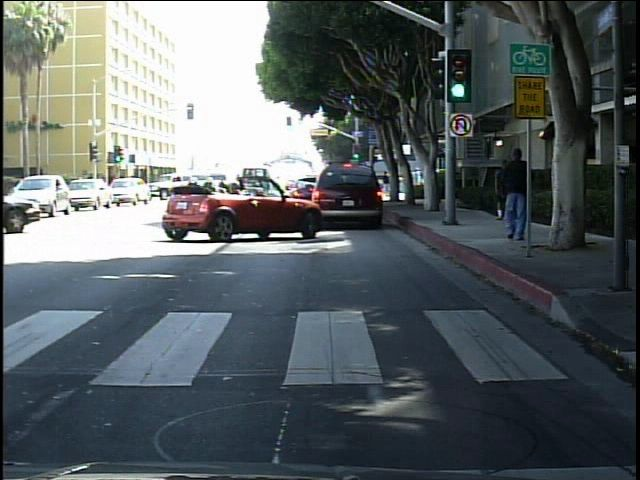person: (497, 140, 531, 240), (492, 148, 517, 227)
